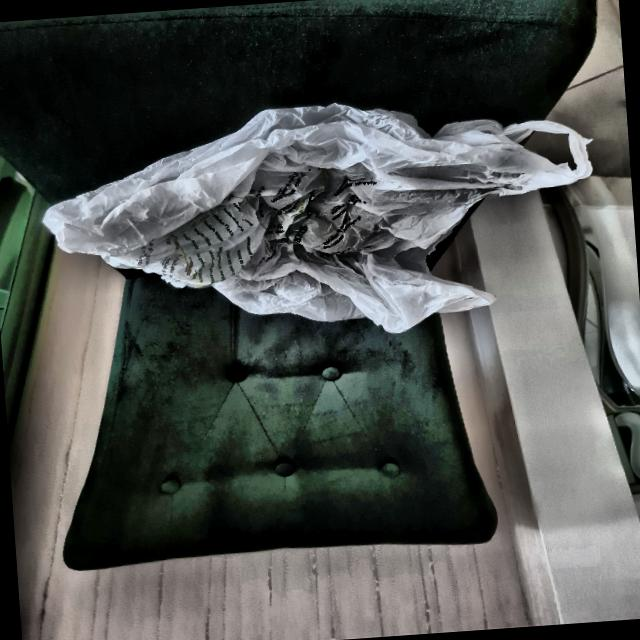plastic bag: (34, 81, 604, 359)
